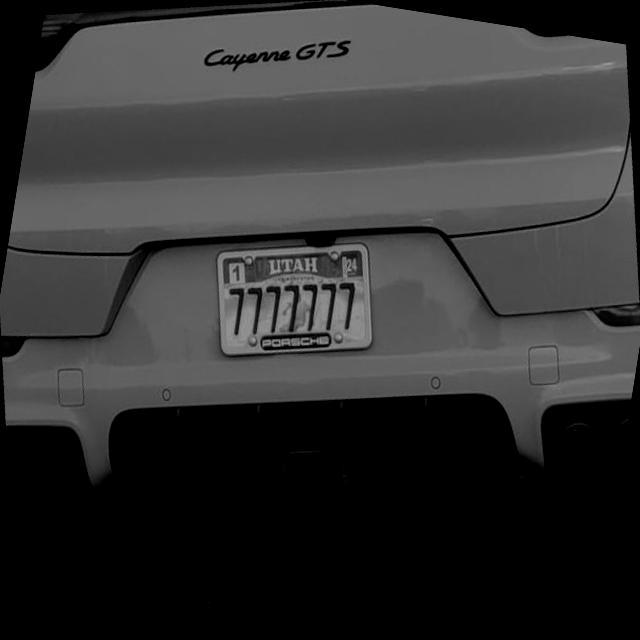LicensePlate: (215, 242, 371, 356)
